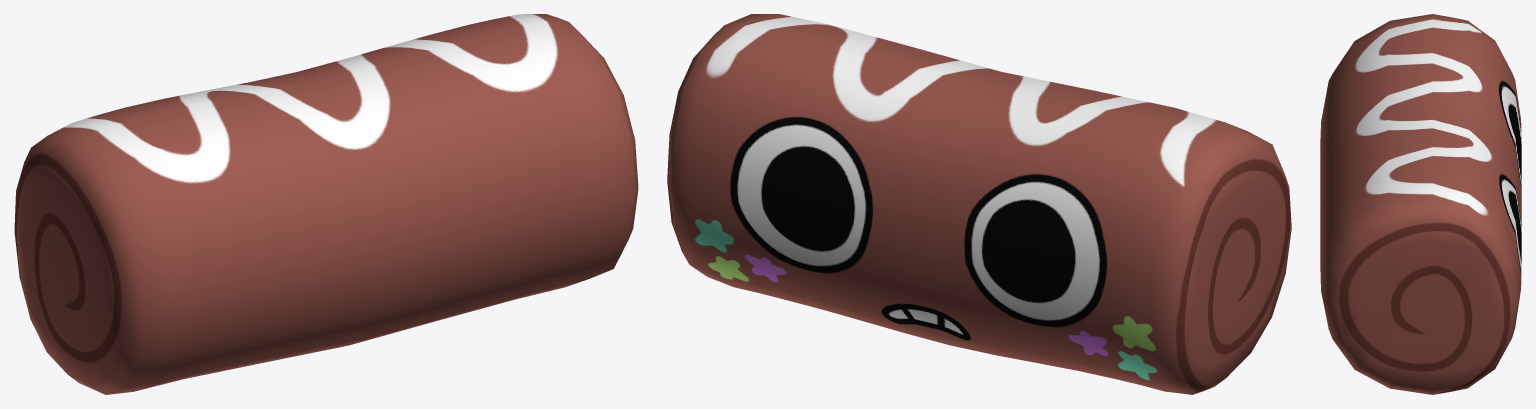
The model's file is Cosmo.glb.
3 views of the same model, side by side, from view 1: azimuth 30°, elevation 25°; view 2: azimuth 150°, elevation 25°; view 3: azimuth 270°, elevation 25° (orthographic). The views are drawn at different scales.
Visible parts, largest first — view 1: Cosmo Head; view 2: Cosmo Head; view 3: Cosmo Head.
Part boxes in pixels (<box>): Cosmo Head: <box>14,14,638,394</box>; Cosmo Head: <box>667,14,1291,394</box>; Cosmo Head: <box>1320,14,1521,394</box>.
Bounding box in the file's own units: 4.15 × 1.96 × 1.74.
1 material, 1 textured.
